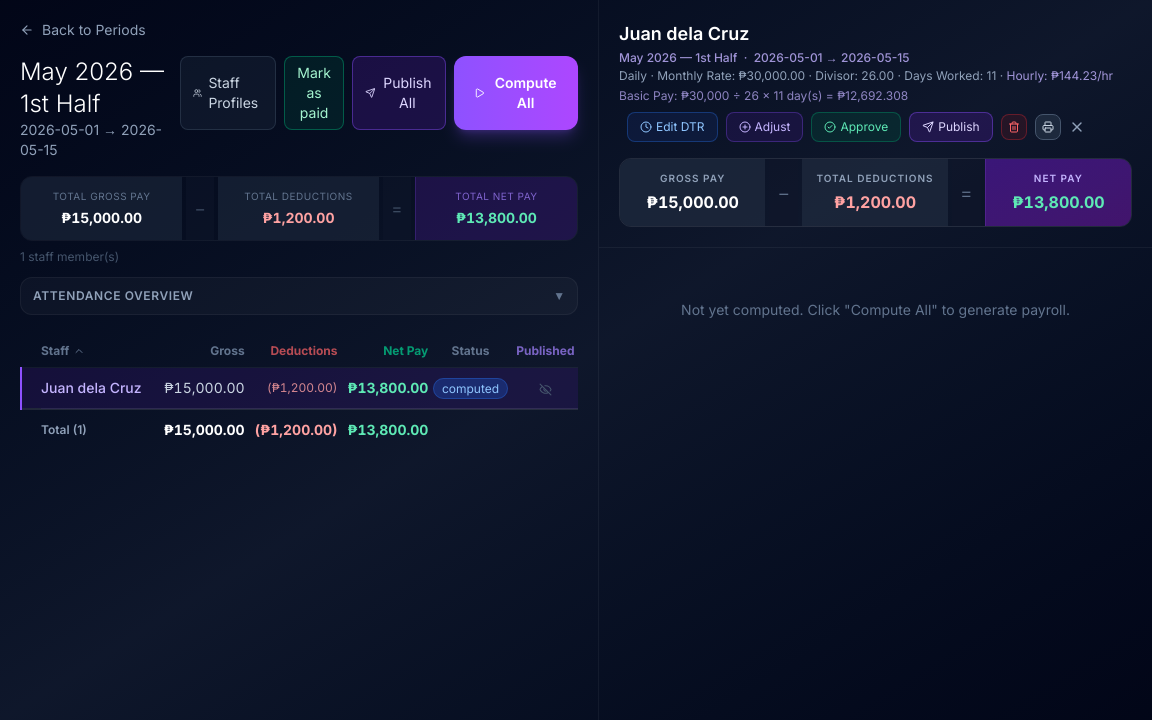
ManilaPayrollPeriodPage — side panel › side panel shows MONTHLY_BASIC earning label
Click the text "Juan dela Cruz" at (91, 388), box [41,378,142,398]
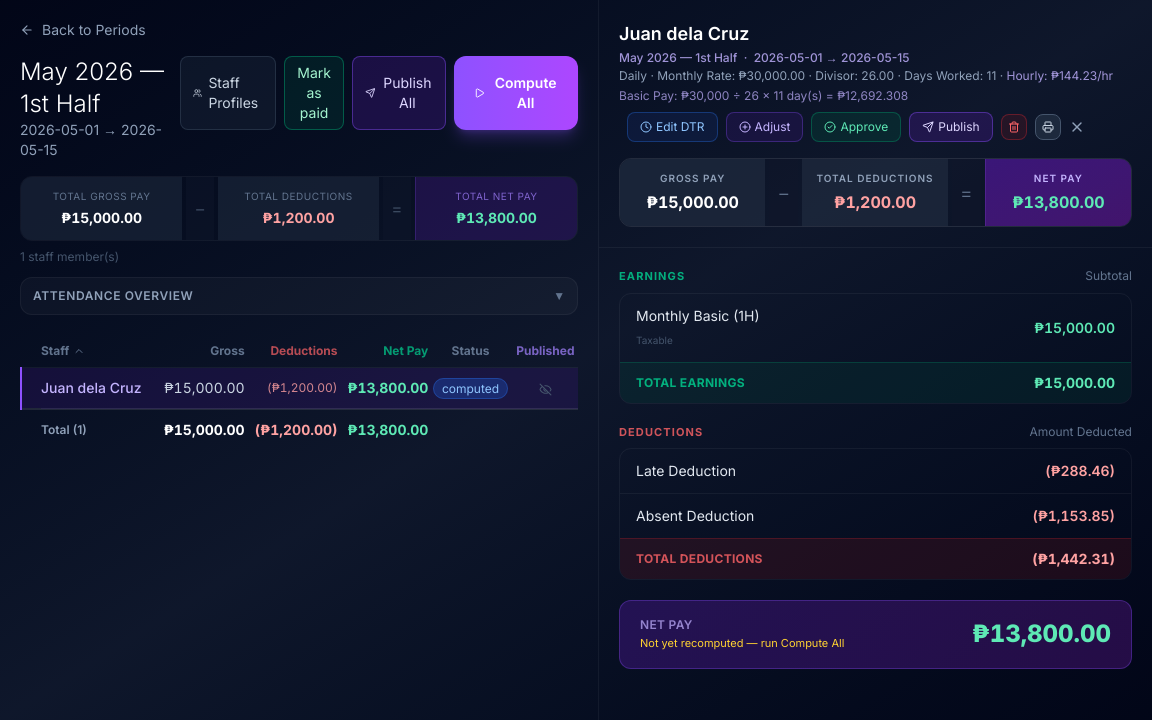
expect the text "Monthly Basic (1H)" is shown: met, box [636,306,760,326]
